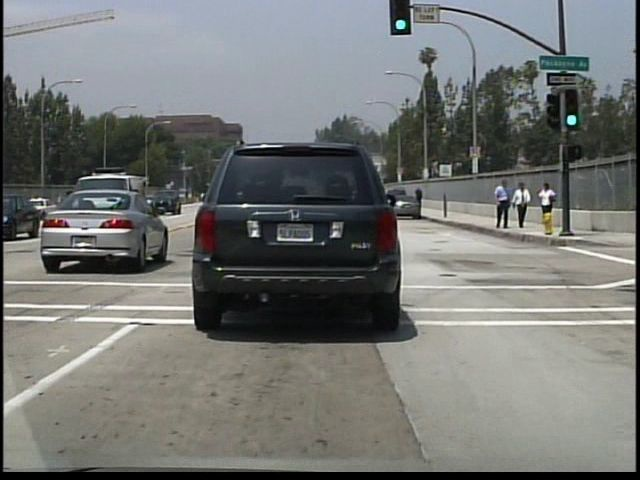person: (492, 178, 512, 234), (514, 181, 534, 230), (537, 180, 557, 212), (414, 187, 425, 211)
